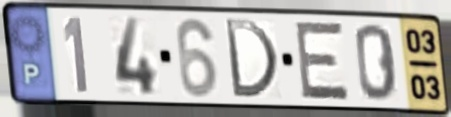0: (353, 21, 398, 104)
1: (61, 14, 90, 96)
4: (111, 14, 163, 99)
6: (172, 15, 223, 100)
D: (222, 16, 282, 102)
E: (293, 18, 352, 103)
